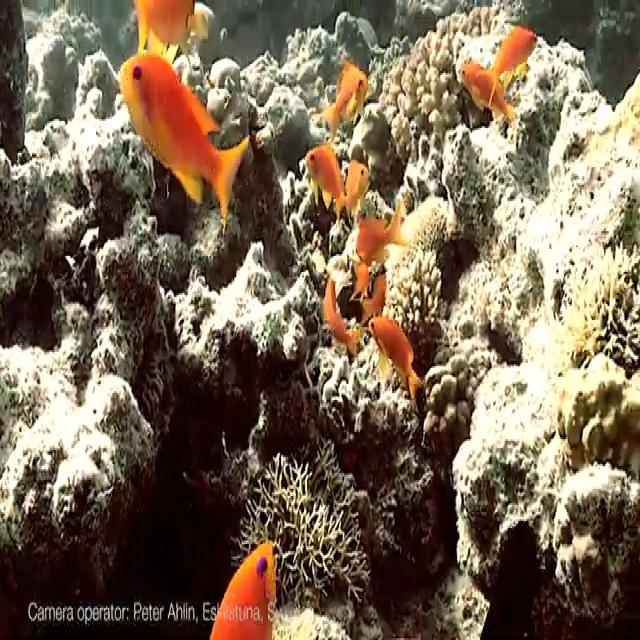Sea Goldie: (118, 50, 246, 213), (211, 537, 278, 640), (131, 2, 211, 54), (368, 318, 422, 391), (489, 23, 538, 92), (462, 59, 509, 122), (322, 65, 367, 129), (357, 213, 404, 264), (305, 146, 345, 202), (325, 274, 354, 349), (346, 160, 371, 213)
